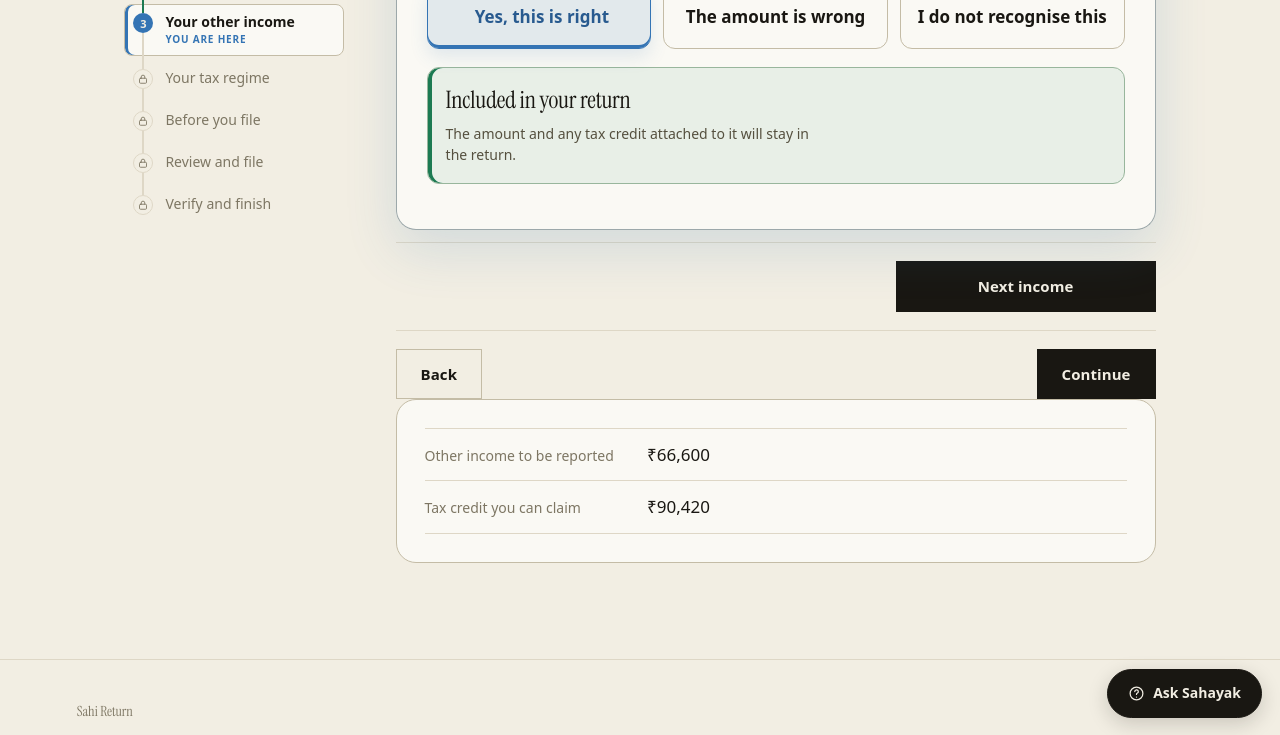
Sahi Return salaried filing journey › creates a synthetic AIS feedback reference for a disputed entry
This screenshot has width=1280, height=735.
(page scrolled)
Click the button "Next income" at (1026, 286), box [896,261,1156,312]
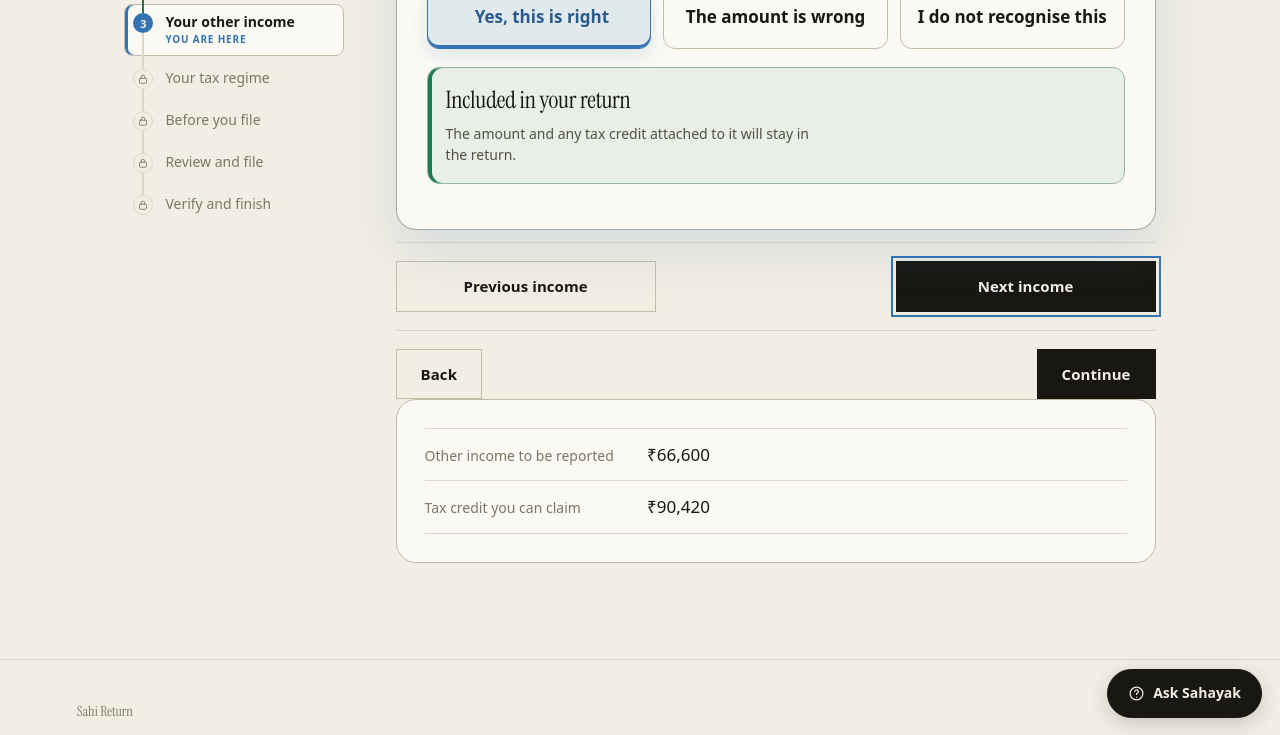
Click the button "Next income" at (1026, 286), box [896,261,1156,312]
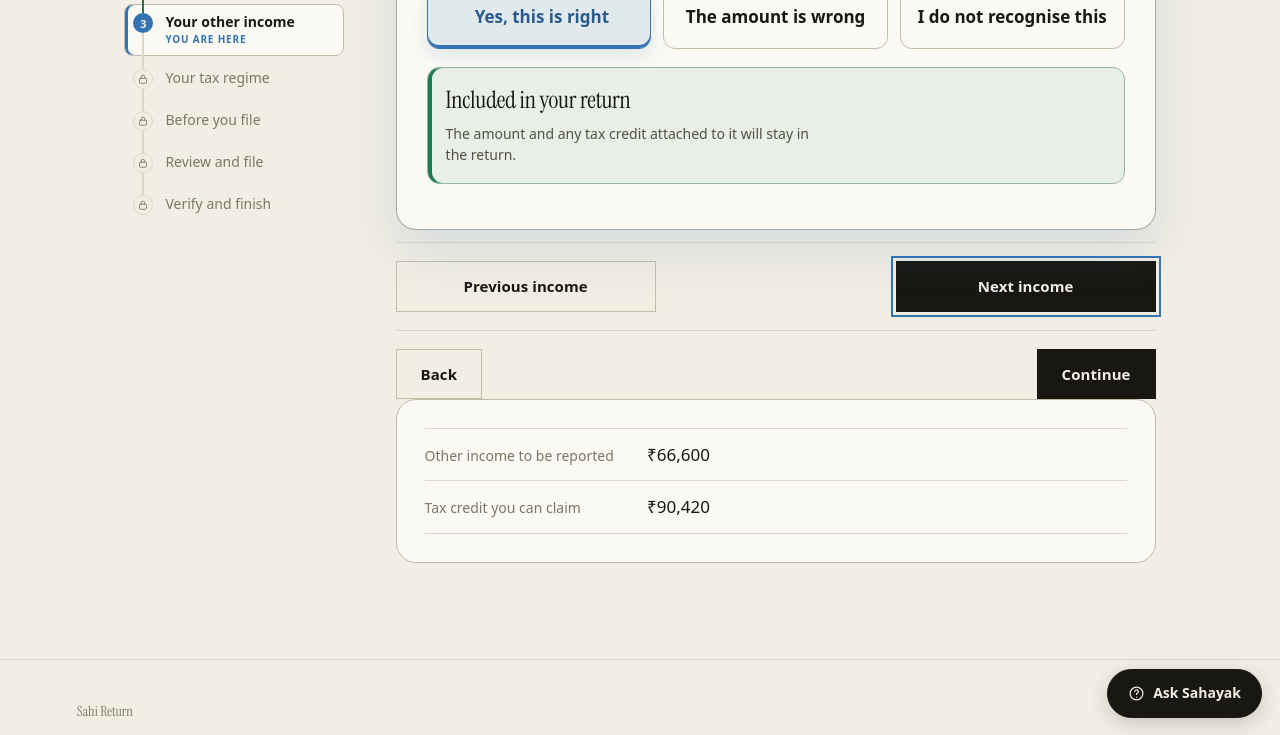
Click the button "Next income" at (1026, 286), box [896,261,1156,312]
(page scrolled)
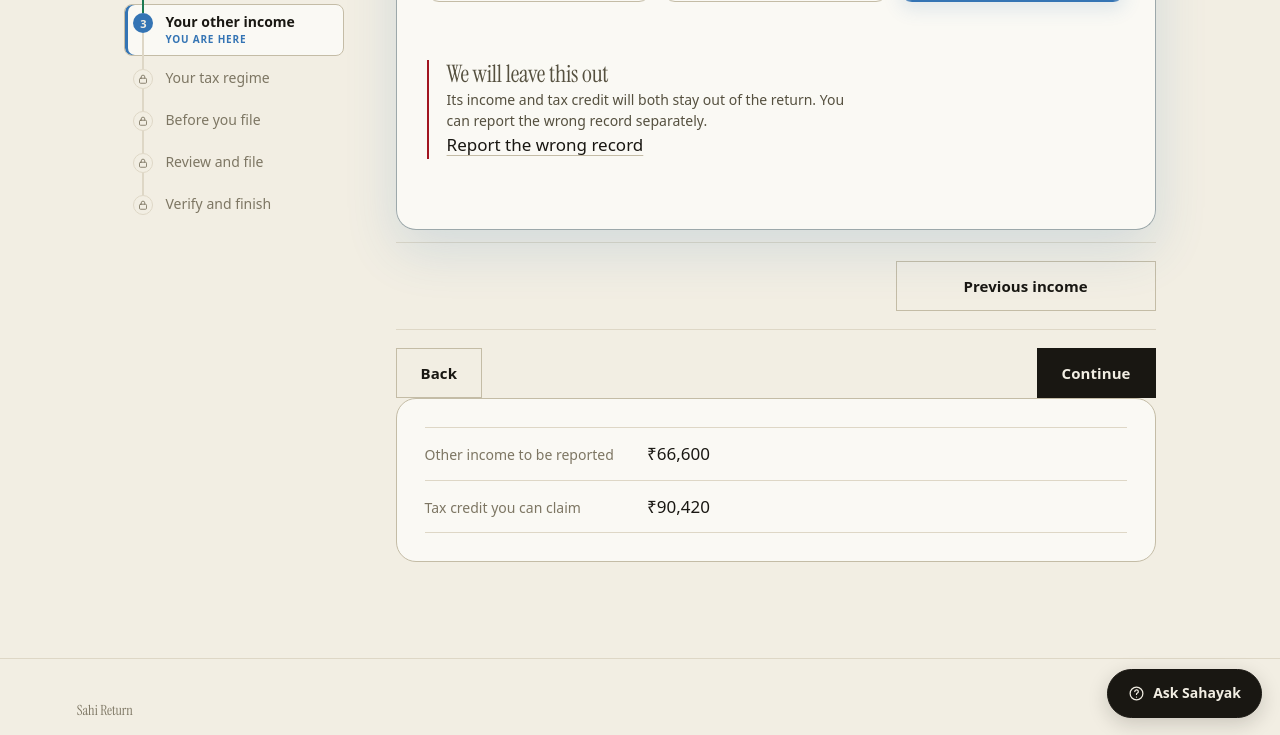
Click the button "Report the wrong record" at (545, 145), box [447,131,643,158]
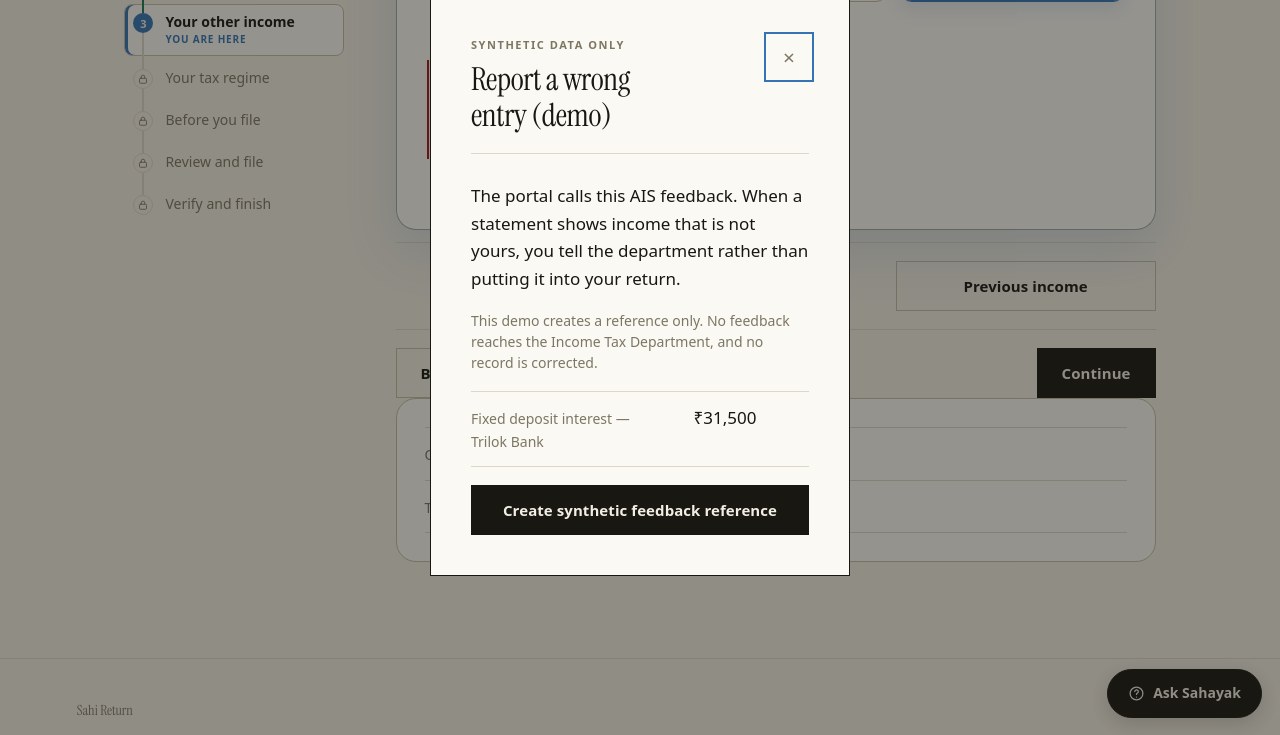
Click the button "Create synthetic feedback reference" at (640, 510), box [471,485,809,535]
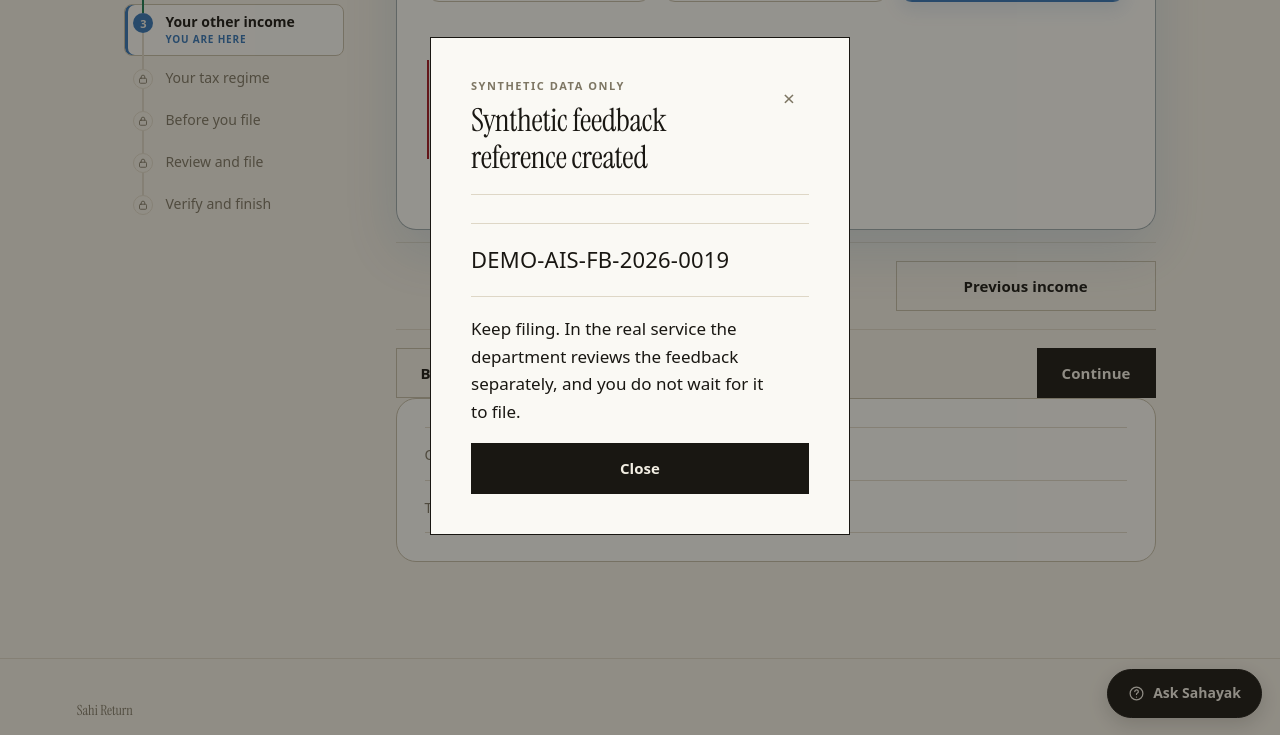
Now the text "DEMO-AIS-FB-2026-0019" is shown, box [471,224,809,297]
